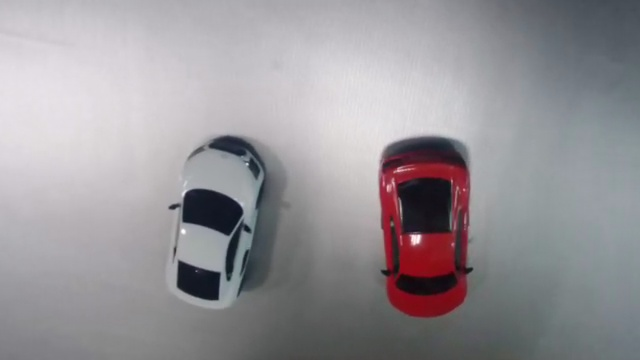car: (166, 140, 265, 309), (378, 147, 472, 319)
